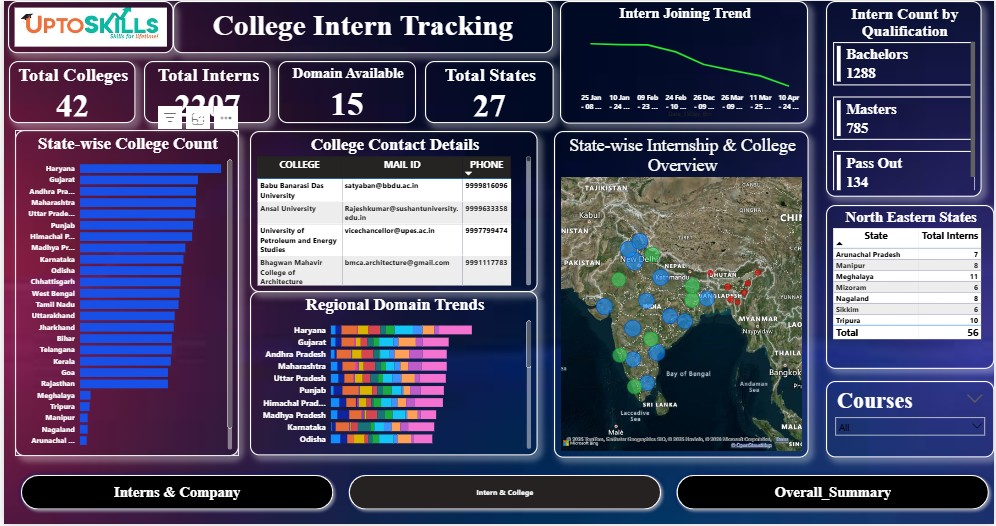

The dashboard page shown, as its layout file describes it:
{"tool":"powerbi","page":{"name":"Intern & College","canvas":[1800,950],"ordinal":1},"visuals":[{"type":"textbox","box":[307.8,0,691.1,94.9],"z":0},{"type":"map","title":"State-wise Internship & College Overview","fields":{"Category":["Final Intern Data.State"],"Size":["CountNonNull(Final Intern Data.Name)"]},"box":[999.1,235.5,462.8,593.6],"z":1000},{"type":"clusteredBarChart","title":"State-wise College Count","fields":{"Category":["Final Intern Data.State"],"Y":["CountNonNull(Final Intern Data.College)"]},"box":[20.9,234.8,406.8,593.4],"z":2000},{"type":"tableEx","title":"College Contact Details","fields":{"Values":["College_data.COLLEGE","College_data.MAIL ID","College_data.PHONE"]},"box":[448,235.5,523.3,292.7],"z":3000},{"type":"barChart","title":"Regional Domain Trends","fields":{"Category":["Final Intern Data.State"],"Y":["CountNonNull(Final Intern Data.Name)"],"Series":["Final Intern Data.Domain"]},"box":[448,528.2,523.3,299.2],"z":4000},{"type":"lineChart","title":"Intern Joining Trend","fields":{"Y":["Count(Final Intern Data.Name)"],"Category":["Final Intern Data.Date_15Day_Bin"]},"box":[1010.5,0,451.1,222.6],"z":5000},{"type":"tableEx","title":"North Eastern States","fields":{"Values":["Final Intern Data.State","Final Intern Data.Name"]},"box":[1494.6,371.2,305.8,297.6],"z":6000},{"type":"multiRowCard","title":"Intern Count by Qualification","fields":{"Values":["Final Intern Data.Course_Level","CountNonNull(Final Intern Data.Name)"]},"box":[1494.6,0,282.9,356.5],"z":7000},{"type":"card","title":"Total Interns","fields":{"Values":["Final Intern Data.Count of intern"]},"box":[254,109.7,230.5,112.9],"z":8000},{"type":"card","title":"Total States","fields":{"Values":["Count(Final Intern Data.State)"]},"box":[765.3,109.6,233.8,112.8],"z":9000},{"type":"card","title":"Total Colleges","fields":{"Values":["Count(Final Intern Data.College)"]},"box":[9.4,109.7,230.5,112.9],"z":10000},{"type":"card","title":"Domain Available","fields":{"Values":["Count(Final Intern Data.Domain)"]},"box":[498.6,109.7,250.9,112.9],"z":11000},{"type":"pageNavigator","box":[21.3,853.6,1779.1,81.8],"z":12000},{"type":"slicer","fields":{"Values":["Final Intern Data.Course pursuing or completed"]},"box":[1494.6,690,305.8,139],"z":13000},{"type":"image","box":[6.5,0,300.9,94.8],"z":14000}]}

Visuals, with their boxes in screenshot pixels (x1, y1, x2, y2), scaled from the page's 1800x950 canvas onto the 996x526 screenshot:
textbox: bbox(170, 0, 553, 53)
"State-wise Internship & College Overview" map: bbox(553, 130, 809, 459)
"State-wise College Count" clusteredBarChart: bbox(12, 130, 237, 459)
"College Contact Details" tableEx: bbox(248, 130, 537, 292)
"Regional Domain Trends" barChart: bbox(248, 292, 537, 458)
"Intern Joining Trend" lineChart: bbox(559, 0, 809, 123)
"North Eastern States" tableEx: bbox(827, 206, 995, 370)
"Intern Count by Qualification" multiRowCard: bbox(827, 0, 984, 197)
"Total Interns" card: bbox(141, 61, 268, 123)
"Total States" card: bbox(423, 61, 553, 123)
"Total Colleges" card: bbox(5, 61, 133, 123)
"Domain Available" card: bbox(276, 61, 415, 123)
pageNavigator: bbox(12, 473, 995, 518)
slicer - Final Intern Data.Course pursuing or completed: bbox(827, 382, 995, 459)
image: bbox(4, 0, 170, 52)
